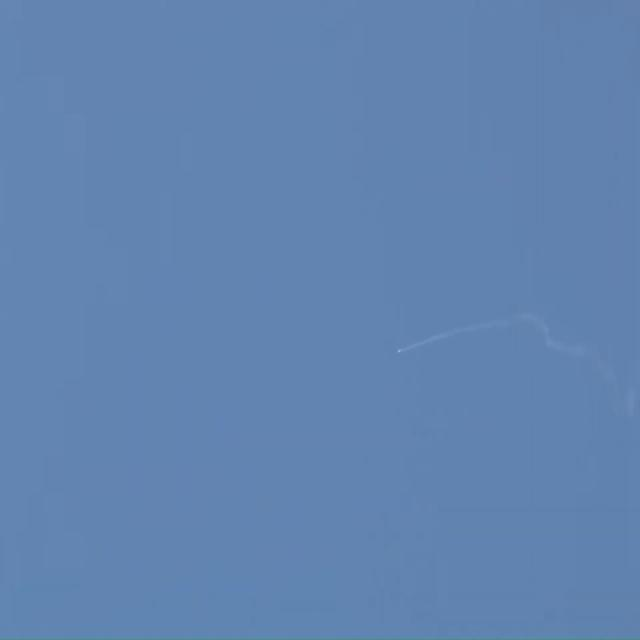Rocket: (398, 350, 400, 352)
